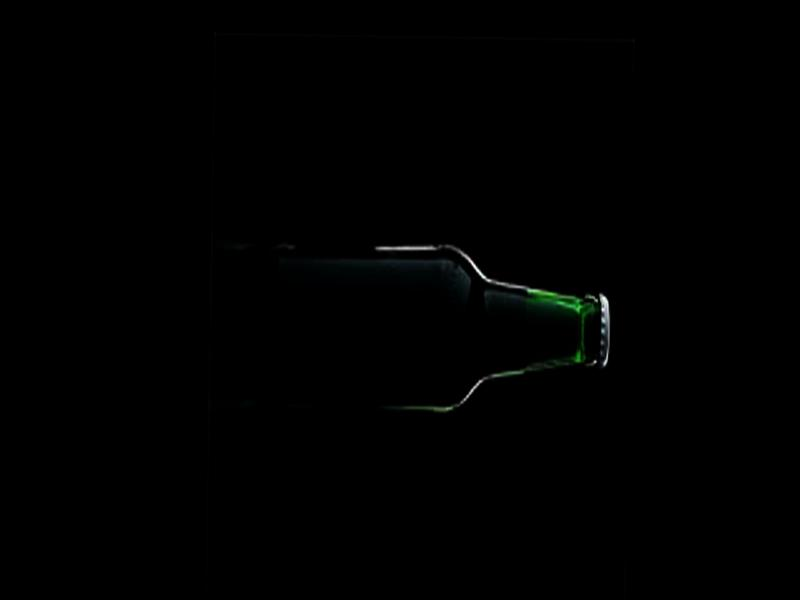Beer: (267, 235, 612, 415)
